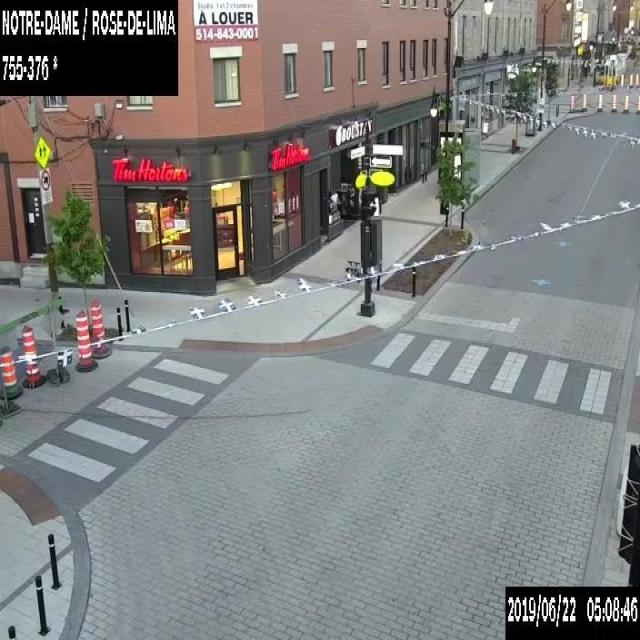construction: (21, 323, 45, 388), (74, 310, 97, 371), (89, 300, 111, 358), (0, 345, 22, 400), (611, 92, 616, 108), (597, 92, 602, 107), (570, 94, 574, 108), (636, 94, 639, 110), (624, 93, 627, 108), (582, 93, 585, 106), (620, 73, 623, 85), (635, 73, 638, 84), (629, 73, 632, 84)
